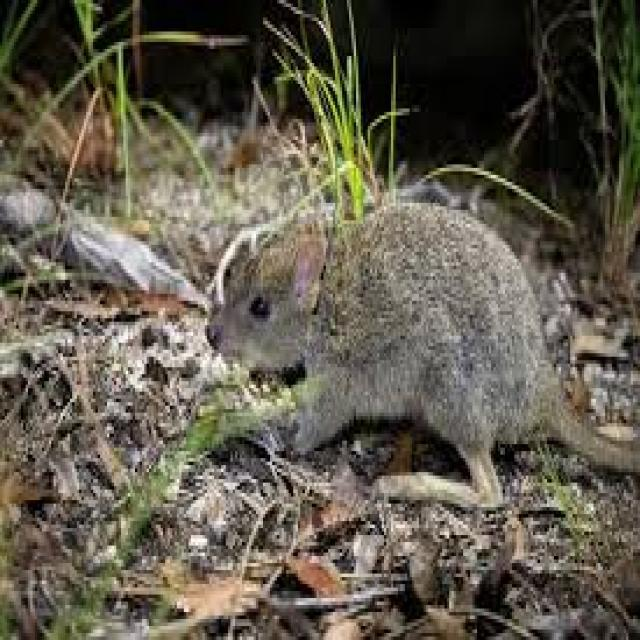Rat: (168, 166, 632, 540)
